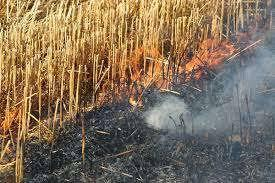smoke: (153, 101, 224, 128)
